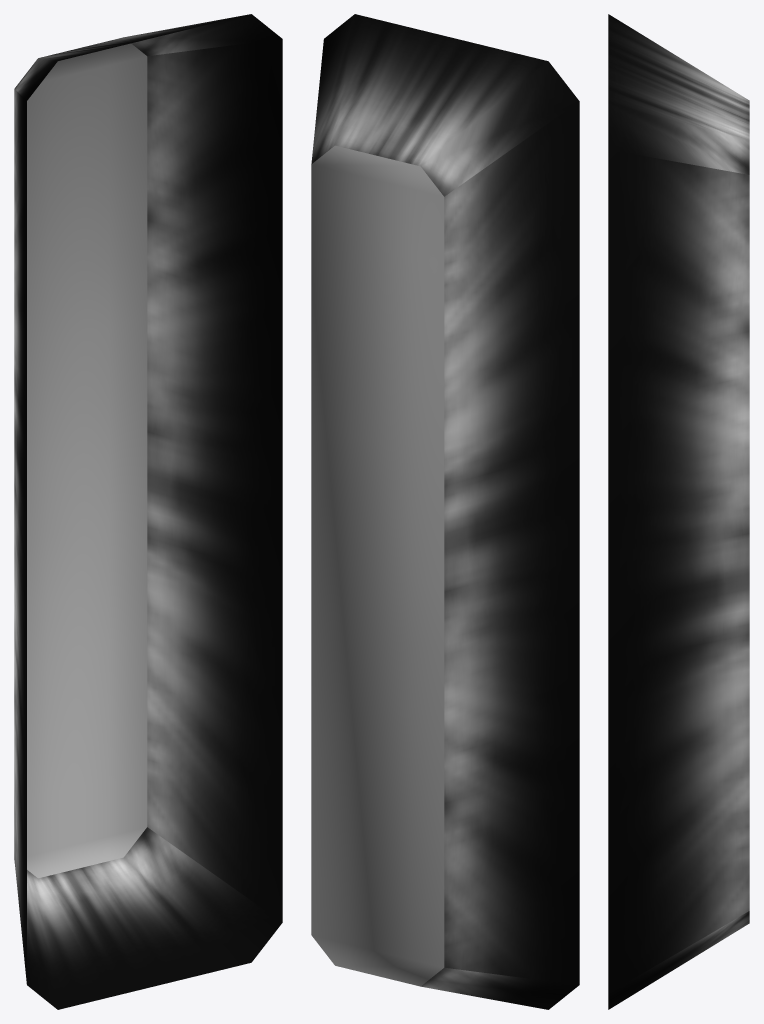
Rendered from Light_Flat_Long_Lightcone.FBX.
The picture shows the model from 3 angles, left to right: view 1: azimuth 30°, elevation 25°; view 2: azimuth 150°, elevation 25°; view 3: azimuth 270°, elevation 25°; orthographic projection. The views are drawn at different scales.
Visible parts, largest first — view 1: Light_Flat_Long_Lightcone; view 2: Light_Flat_Long_Lightcone; view 3: Light_Flat_Long_Lightcone.
Part boxes in pixels (x1,y1,x2,y2): Light_Flat_Long_Lightcone: (14,14,282,1009); Light_Flat_Long_Lightcone: (311,14,579,1009); Light_Flat_Long_Lightcone: (608,14,749,1009).
Size of the model in its own units: 49.52 by 176 by 24.79.
